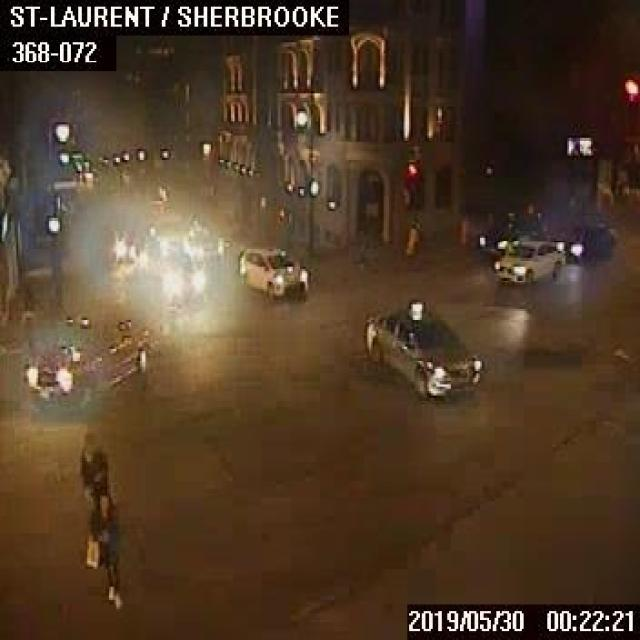construction: (404, 224, 418, 253), (458, 212, 467, 242)
pedestrian: (84, 493, 120, 604), (79, 432, 111, 506)
vehicle: (360, 300, 484, 396), (20, 316, 145, 406), (233, 244, 307, 296), (492, 237, 564, 282), (154, 249, 204, 300), (555, 222, 614, 262), (477, 218, 533, 250)
